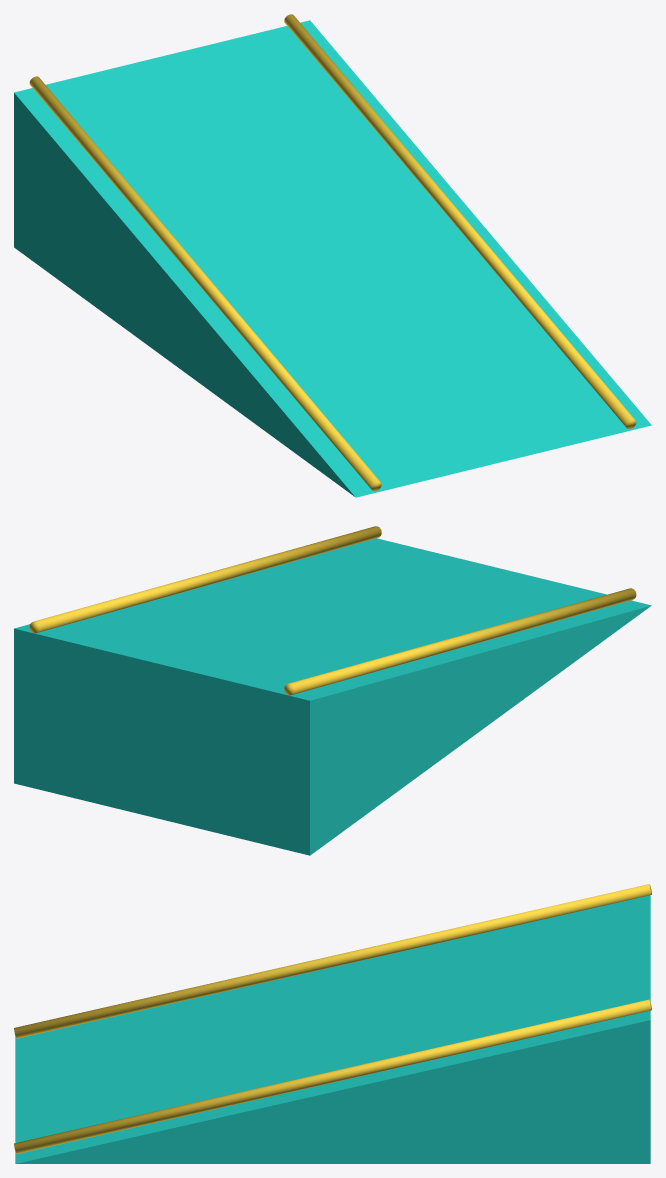
Rendered from Jump_ramp.glb.
The picture shows the model from 3 angles, top to bottom: view 1: azimuth 30°, elevation 25°; view 2: azimuth 150°, elevation 25°; view 3: azimuth 270°, elevation 25°; orthographic projection. The views are drawn at different scales.
Parts seen in each view (by area): view 1: Ramp, Ramp edge, Ramp edge.001; view 2: Ramp, Ramp edge.001, Ramp edge; view 3: Ramp, Ramp edge, Ramp edge.001.
Part boxes in pixels (x1,y1,x2,y2): Ramp: (14, 20, 651, 497); Ramp edge: (29, 76, 381, 491); Ramp edge.001: (284, 14, 636, 428); Ramp: (14, 538, 651, 855); Ramp edge.001: (29, 526, 381, 633); Ramp edge: (284, 588, 636, 695); Ramp: (15, 886, 650, 1163); Ramp edge: (14, 884, 651, 1038); Ramp edge.001: (14, 999, 651, 1153).
Bounding box in the file's own units: 2 × 1.07 × 4.02.
